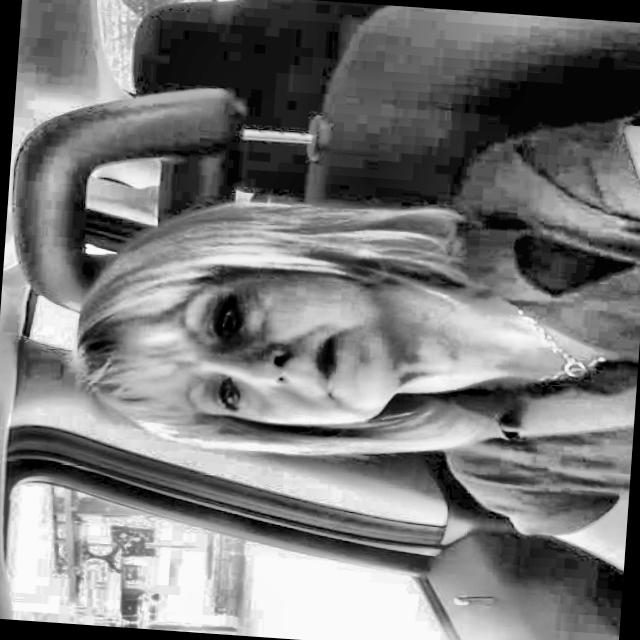closed_mouth: (293, 315, 365, 424)
open_eyes: (194, 289, 256, 353), (203, 367, 262, 421)
